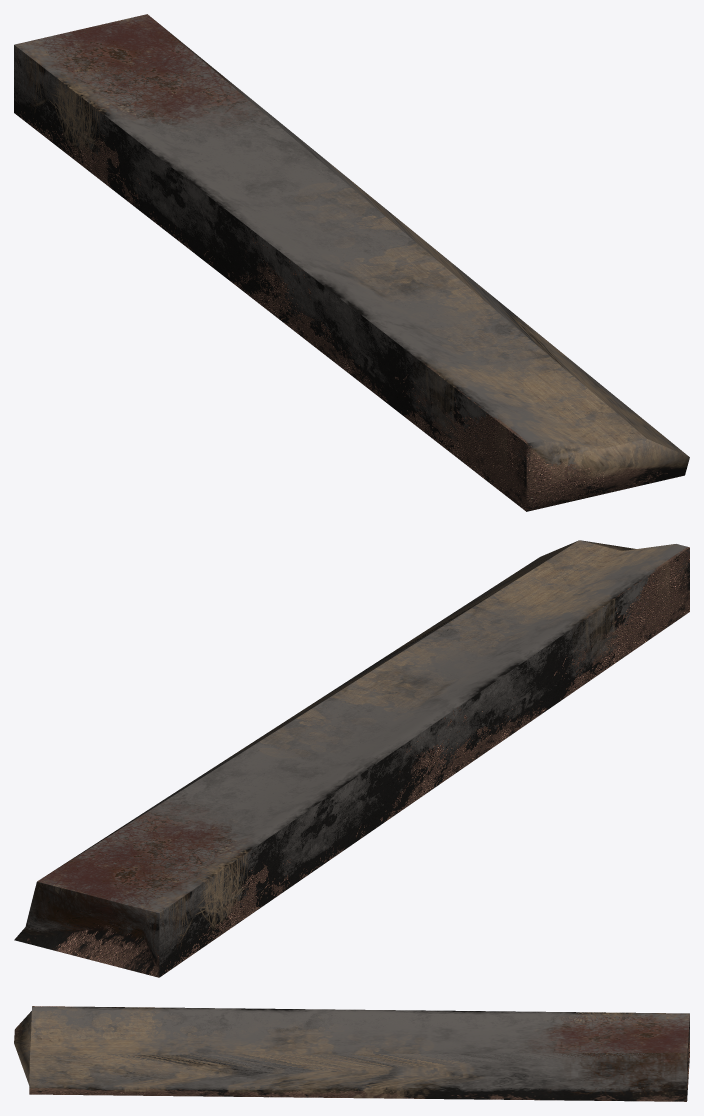
File: BarraMetal01.fbx
3 renders of one model, top to bottom at view 1: azimuth 30°, elevation 25°; view 2: azimuth 150°, elevation 25°; view 3: azimuth 270°, elevation 25°, orthographic. The views are drawn at different scales.
Parts seen in each view (by area): view 1: pCube1; view 2: pCube1; view 3: pCube1.
Boxes of the visible parts, bbox=[...] form: pCube1: bbox=[14, 14, 689, 511]; pCube1: bbox=[14, 540, 689, 977]; pCube1: bbox=[14, 1006, 689, 1101].
Size of the model in its own units: 3.55 by 1.28 by 18.77.
Materials: 1 (1 with a texture image).
